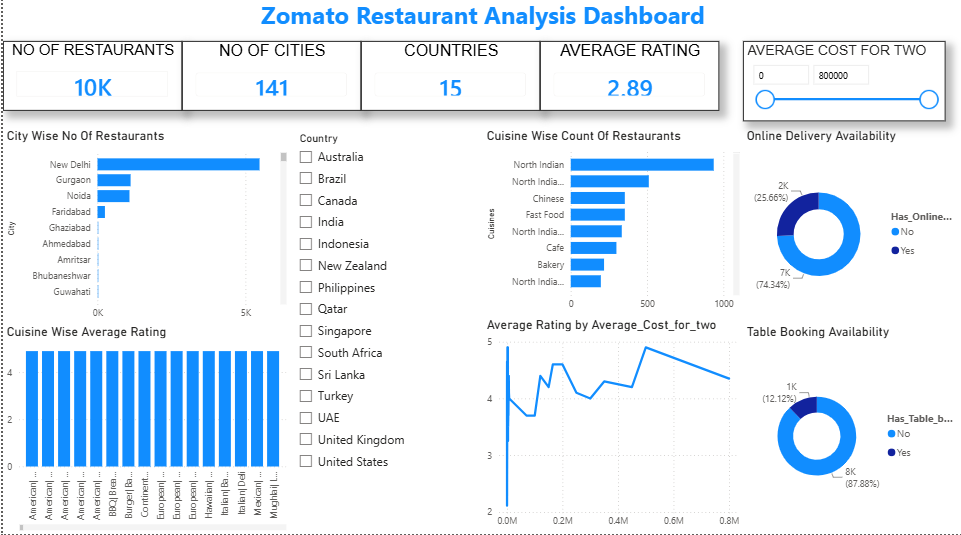

What the dashboard file says about the page in this screenshot:
{"tool":"powerbi","page":{"name":"DASHBOARD","canvas":[1280,720],"ordinal":0},"visuals":[{"type":"clusteredBarChart","title":"City Wise No Of Restaurants","fields":{"Category":["Restaurant_Data.City"],"Y":["Restaurant_Data.Restaurant Count"]},"box":[0,178.6,382.9,264.3],"z":0},{"type":"clusteredBarChart","title":"Cuisine Wise Count Of Restaurants","fields":{"Category":["Restaurant_Data.Cuisines"],"Y":["Restaurant_Data.Restaurant Count"]},"box":[640,178.7,346.7,252],"z":1000},{"type":"clusteredColumnChart","title":"Cuisine Wise Average Rating","fields":{"Category":["Restaurant_Data.Cuisines"],"Y":["Restaurant_Data.Average Rating"]},"box":[0,440,382.9,280],"z":2000},{"type":"lineChart","fields":{"Y":["Restaurant_Data.Average Rating"],"Category":["Restaurant_Data.Average_Cost_for_two"]},"box":[640,430,347.1,290],"z":3000},{"type":"donutChart","title":"Table Booking Availability","fields":{"Category":["Restaurant_Data.Has_Table_booking"],"Y":["Restaurant_Data.Restaurant Count"]},"box":[987.1,440,292.9,280],"z":4000},{"type":"donutChart","title":"Online Delivery Availability","fields":{"Category":["Restaurant_Data.Has_Online_delivery"],"Y":["Restaurant_Data.Restaurant Count"]},"box":[987.1,178.6,292.9,264.3],"z":5000},{"type":"slicer","title":"Country","fields":{"Values":["CountryCode.Country"]},"box":[382.9,178.6,222.9,481.4],"z":6000},{"type":"slicer","title":"AVERAGE COST FOR TWO","fields":{"Values":["Restaurant_Data.Average_Cost_for_two"]},"box":[987.1,62.9,270,107.1],"z":7000},{"type":"shape","box":[0,0,1280,40],"z":8000},{"type":"textbox","box":[0,0,1280,52.9],"z":9000},{"type":"cardVisual","title":"NO OF RESTAURANTS","fields":{"Data":["Restaurant_Data.No. of Restaurants"]},"box":[0,62.9,238.6,92.9],"z":10000},{"type":"cardVisual","title":"NO OF CITIES","fields":{"Data":["Restaurant_Data.No. of Cities"]},"box":[238.6,62.9,238.6,92.9],"z":11000},{"type":"cardVisual","title":"COUNTRIES","fields":{"Data":["Restaurant_Data.Countries"]},"box":[477.1,62.9,238.6,92.9],"z":12000},{"type":"cardVisual","title":"AVERAGE RATING","fields":{"Data":["Restaurant_Data.Average Rating"]},"box":[715.7,62.9,238.6,92.9],"z":13000}]}

Visuals, with their boxes in screenshot pixels (x1, y1, x2, y2), scaled from the page's 1280x720 canvas onto the 961x535 screenshot:
"City Wise No Of Restaurants" clusteredBarChart: Rect(0, 133, 287, 329)
"Cuisine Wise Count Of Restaurants" clusteredBarChart: Rect(480, 133, 741, 320)
"Cuisine Wise Average Rating" clusteredColumnChart: Rect(0, 327, 287, 534)
lineChart - Restaurant_Data.Average Rating x Restaurant_Data.Average_Cost_for_two: Rect(480, 320, 741, 534)
"Table Booking Availability" donutChart: Rect(741, 327, 960, 534)
"Online Delivery Availability" donutChart: Rect(741, 133, 960, 329)
"Country" slicer: Rect(287, 133, 455, 490)
"AVERAGE COST FOR TWO" slicer: Rect(741, 47, 944, 126)
shape: Rect(0, 0, 960, 30)
textbox: Rect(0, 0, 960, 39)
"NO OF RESTAURANTS" cardVisual: Rect(0, 47, 179, 116)
"NO OF CITIES" cardVisual: Rect(179, 47, 358, 116)
"COUNTRIES" cardVisual: Rect(358, 47, 537, 116)
"AVERAGE RATING" cardVisual: Rect(537, 47, 716, 116)
